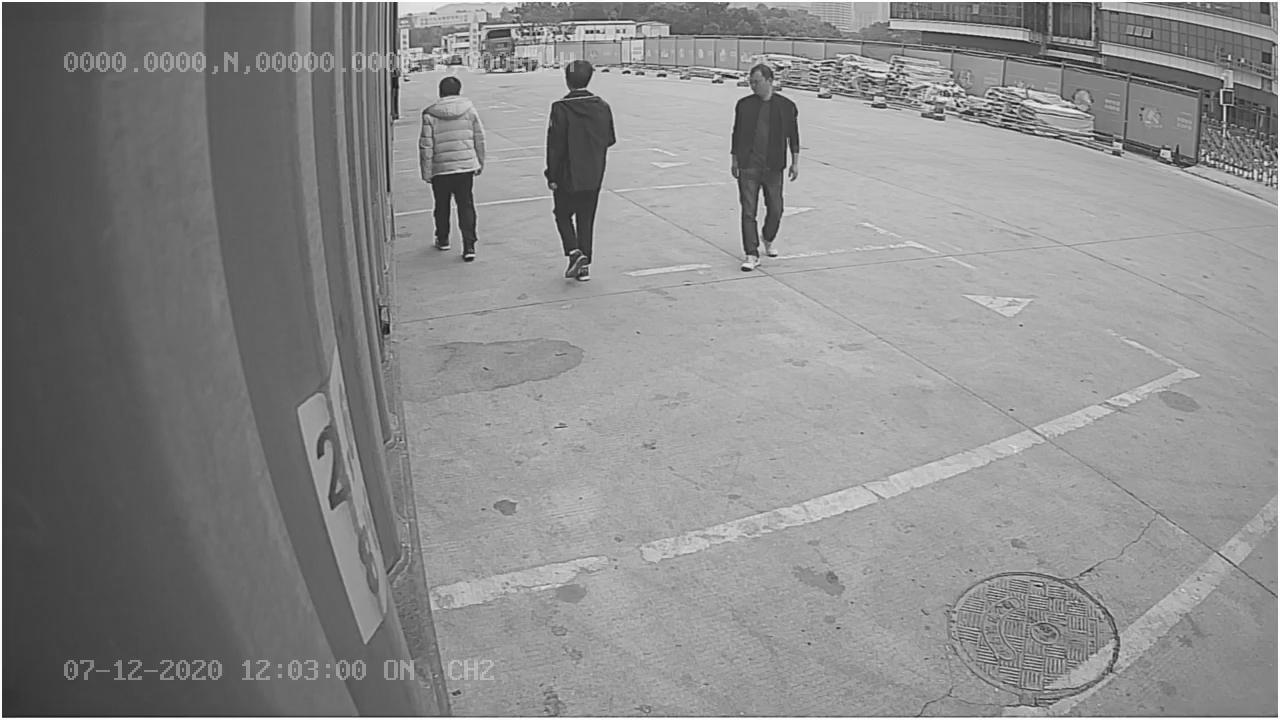person: (540, 60, 622, 284), (725, 62, 802, 273)
